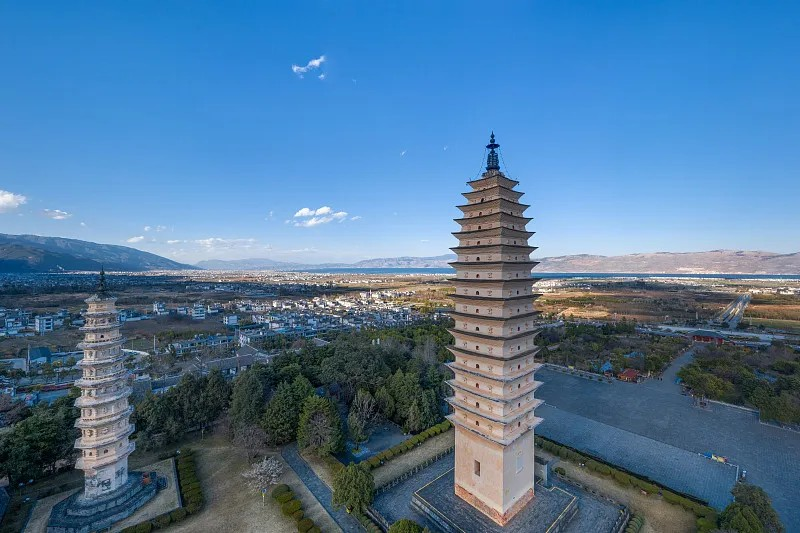ThreePagoda: (444, 130, 545, 525)
